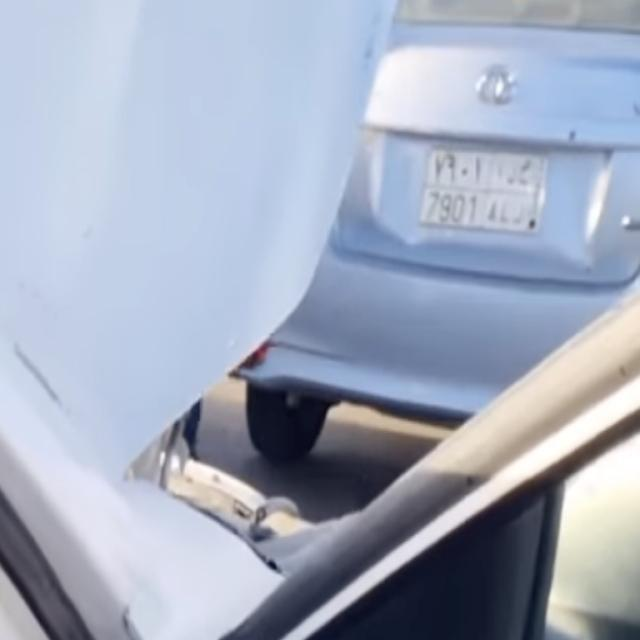license_plate: (411, 143, 552, 243)
